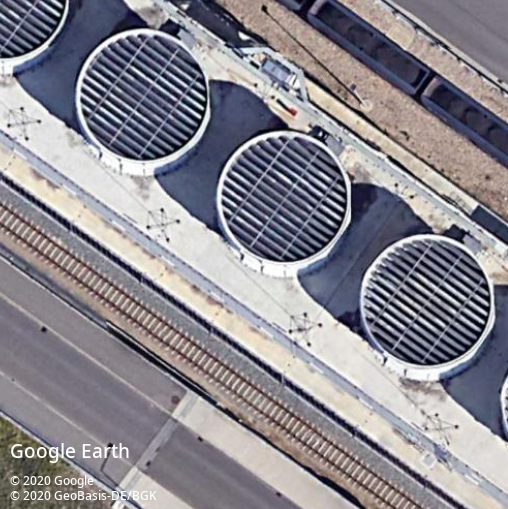Vent: (75, 28, 211, 165), (359, 234, 494, 370), (217, 131, 351, 266)
